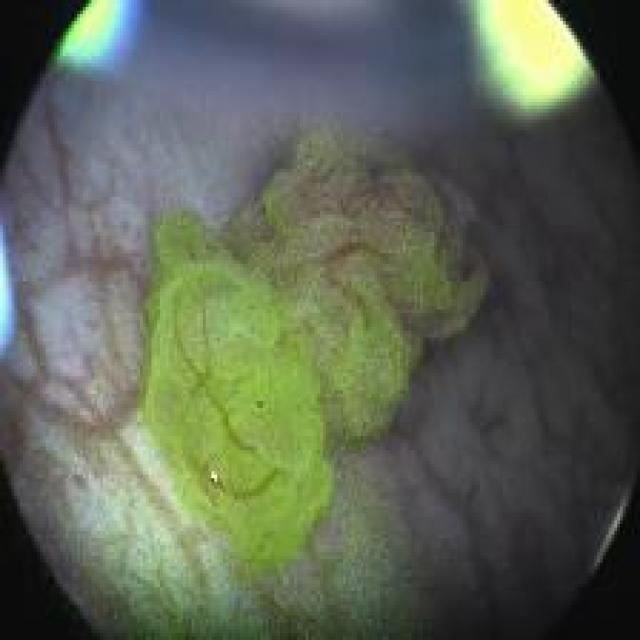color misalignment: (52, 1, 604, 122), (471, 5, 596, 126), (55, 0, 136, 77), (4, 234, 15, 370), (254, 399, 263, 410)
